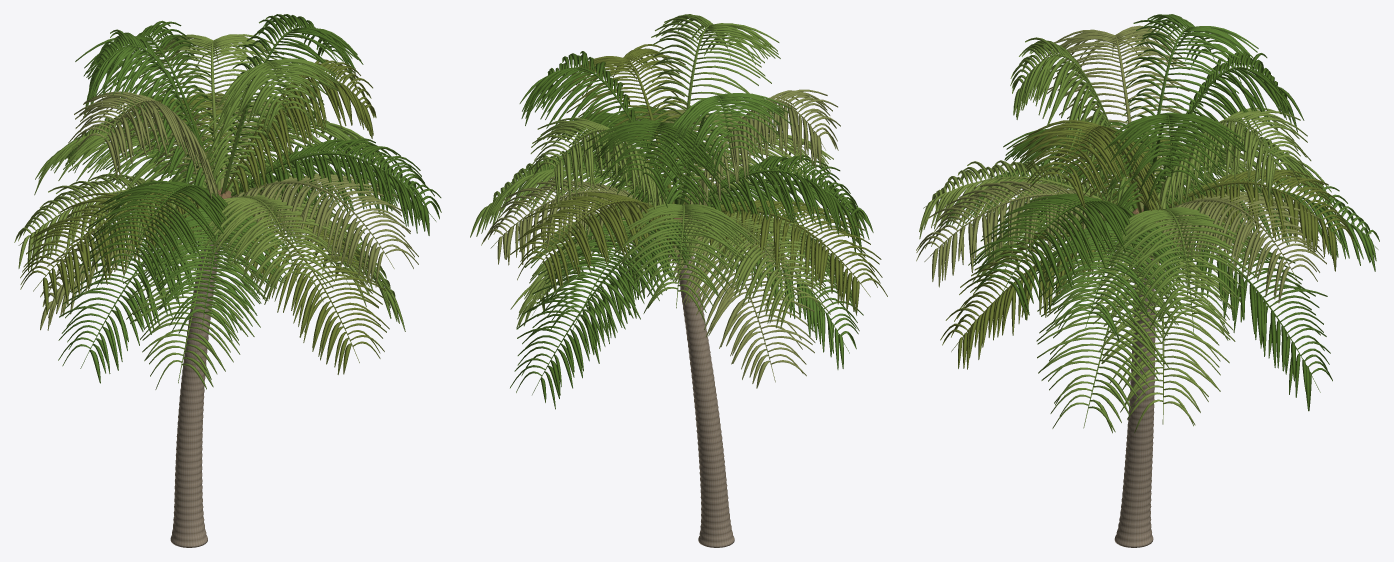
Rendered from beach-palm.glb.
3 views of the same model, side by side, from view 1: azimuth 30°, elevation 25°; view 2: azimuth 150°, elevation 25°; view 3: azimuth 270°, elevation 25° (orthographic). The views are drawn at different scales.
Visible parts, largest first — view 1: Coconut | pinnate frond 10, Coconut | pinnate frond 12, Coconut | pinnate frond 02, Coconut | pinnate frond 18, Coconut | tapered leaning trunk, Coconut | pinnate frond 23, Coconut | pinnate frond 15, Coconut | pinnate frond 17, Coconut | pinnate frond 05, Coconut | pinnate frond 04, Coconut | pinnate frond 07, Coconut | pinnate frond 20 (+15 smaller); view 2: Coconut | tapered leaning trunk, Coconut | pinnate frond 14, Coconut | pinnate frond 17, Coconut | pinnate frond 11, Coconut | pinnate frond 24, Coconut | pinnate frond 12, Coconut | pinnate frond 06, Coconut | pinnate frond 02, Coconut | pinnate frond 09, Coconut | pinnate frond 22, Coconut | pinnate frond 01, Coconut | pinnate frond 19 (+13 smaller); view 3: Coconut | pinnate frond 18, Coconut | pinnate frond 26, Coconut | pinnate frond 08, Coconut | pinnate frond 00, Coconut | pinnate frond 21, Coconut | pinnate frond 16, Coconut | pinnate frond 24, Coconut | pinnate frond 10, Coconut | pinnate frond 05, Coconut | pinnate frond 01, Coconut | pinnate frond 03, Coconut | pinnate frond 13 (+12 smaller).
Boxes of the visible parts, x1,y1,x2,y2 form: Coconut | pinnate frond 10: (230,174,418,287); Coconut | pinnate frond 12: (86,181,237,295); Coconut | pinnate frond 02: (200,58,340,194); Coconut | pinnate frond 18: (231,138,441,235); Coconut | tapered leaning trunk: (170,240,220,547); Coconut | pinnate frond 23: (221,207,389,374); Coconut | pinnate frond 15: (196,194,351,304); Coconut | pinnate frond 17: (20,189,205,314); Coconut | pinnate frond 05: (225,59,376,195); Coconut | pinnate frond 04: (68,91,218,198); Coconut | pinnate frond 07: (142,206,288,341); Coconut | pinnate frond 20: (123,221,268,389); Coconut | tapered leaning trunk: (676,255,734,547); Coconut | pinnate frond 14: (614,204,754,323); Coconut | pinnate frond 17: (695,200,887,314); Coconut | pinnate frond 11: (510,192,677,294); Coconut | pinnate frond 24: (510,235,675,409); Coconut | pinnate frond 12: (702,155,865,255); Coconut | pinnate frond 06: (586,120,728,224); Coconut | pinnate frond 02: (643,14,780,204); Coconut | pinnate frond 09: (670,212,835,328); Coconut | pinnate frond 22: (668,233,817,388); Coconut | pinnate frond 01: (652,93,792,204); Coconut | pinnate frond 19: (538,217,694,346); Coconut | pinnate frond 18: (970,193,1147,319); Coconut | pinnate frond 26: (1036,232,1186,433); Coconut | pinnate frond 08: (1105,207,1258,342); Coconut | pinnate frond 00: (1094,113,1246,211); Coconut | pinnate frond 21: (1088,238,1235,433); Coconut | pinnate frond 16: (1155,191,1326,303); Coconut | pinnate frond 24: (1164,226,1332,411); Coconut | pinnate frond 10: (916,181,1124,287); Coconut | pinnate frond 05: (1012,120,1162,227); Coconut | pinnate frond 01: (1122,14,1258,208); Coconut | pinnate frond 03: (1148,107,1311,232); Coconut | pinnate frond 13: (1036,219,1187,342).
Size of the model in its own units: 6.83 by 8.58 by 7.06.
9 materials, 1 textured.
